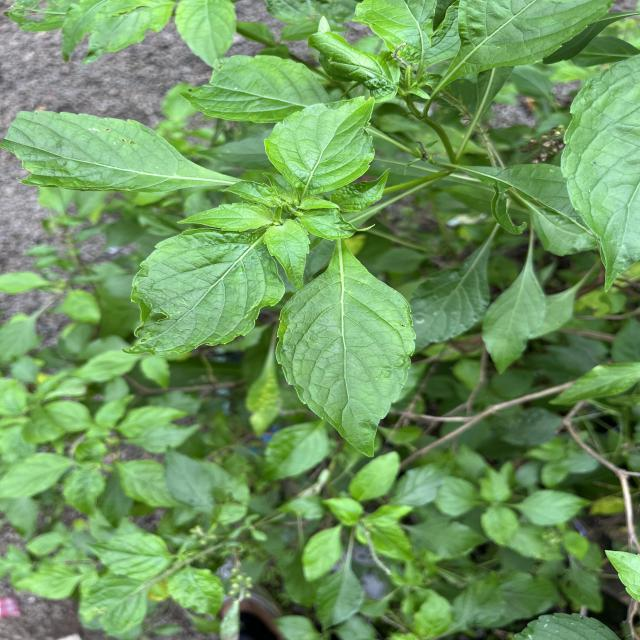Ocimum gratissimum: (271, 244, 420, 461), (116, 218, 292, 360), (0, 105, 237, 197), (557, 51, 639, 305), (260, 82, 380, 204)
